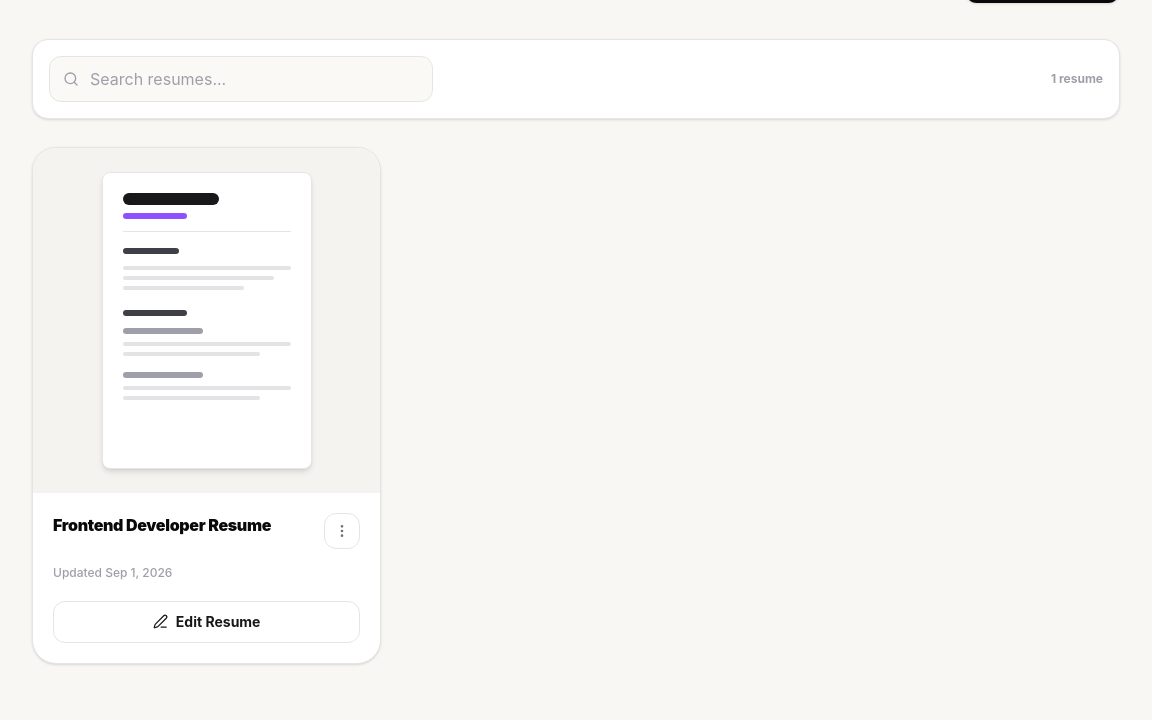
it: ResumeCard action menu › toggles the action menu closed
(page scrolled)
Click the button named "Actions for Frontend Developer Resume". click: point(342, 531)
box: [324,513,360,549]
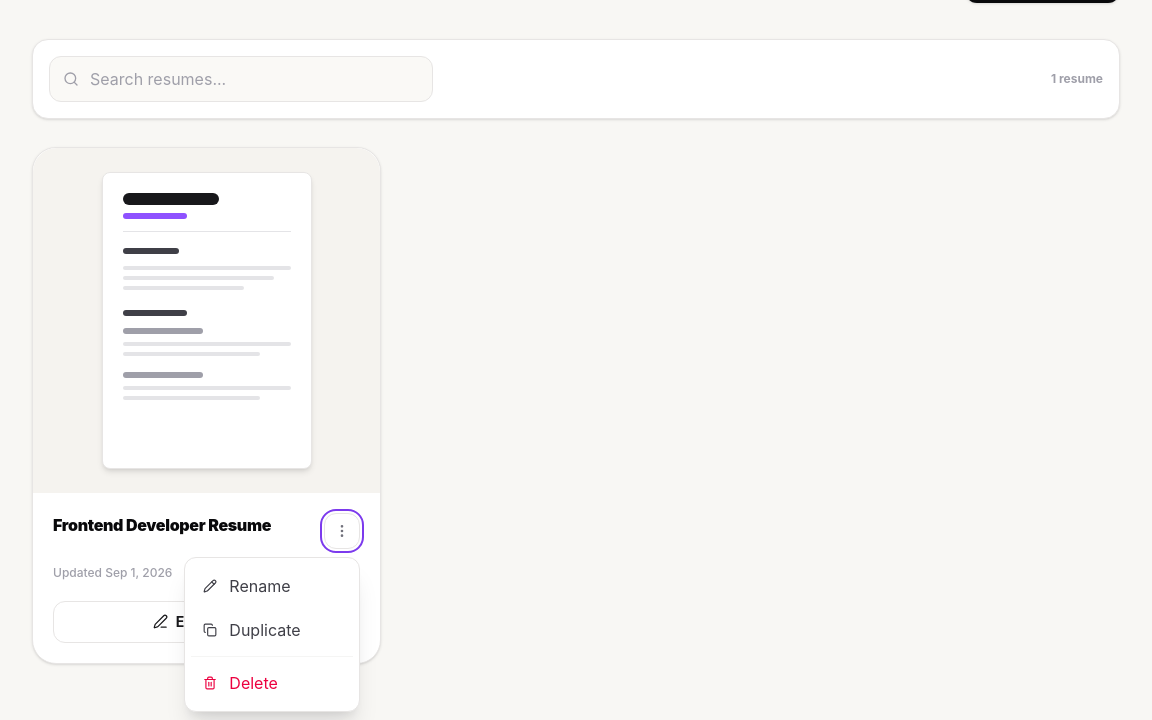
Expected: the button "Rename" is shown, [191,564,353,608]
Click the button named "Actions for Frontend Developer Resume". click: point(342, 531)
box: [324,513,360,549]
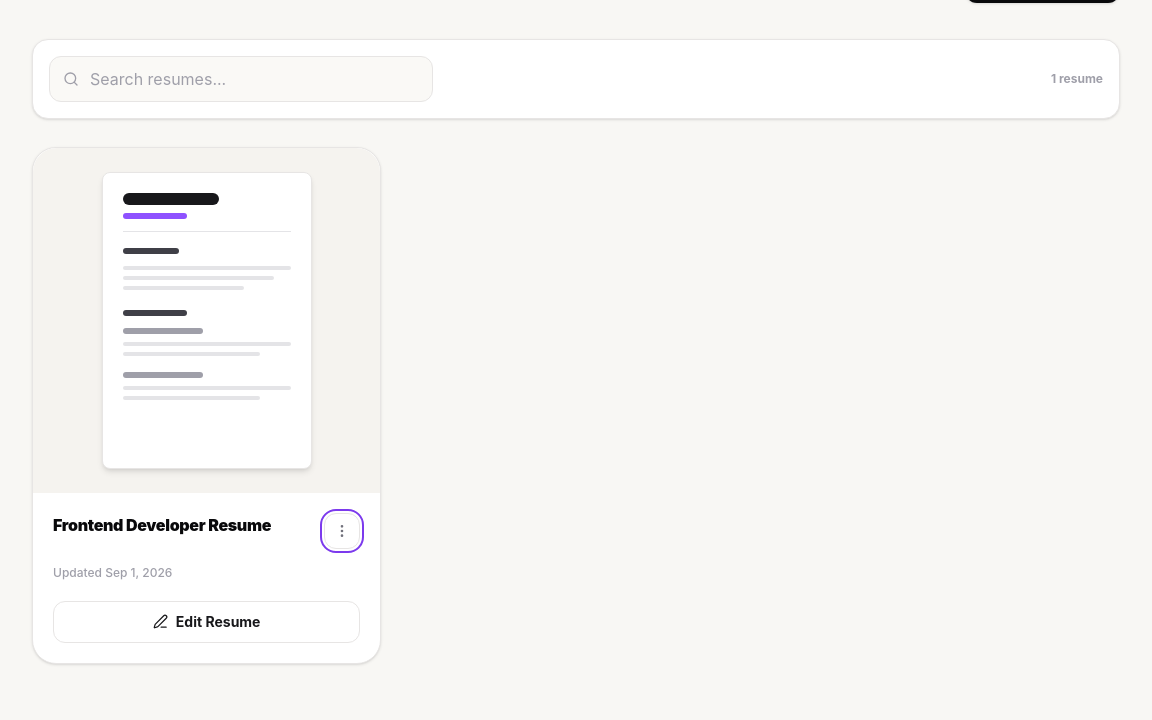
Expected: the button "Rename" is gone
